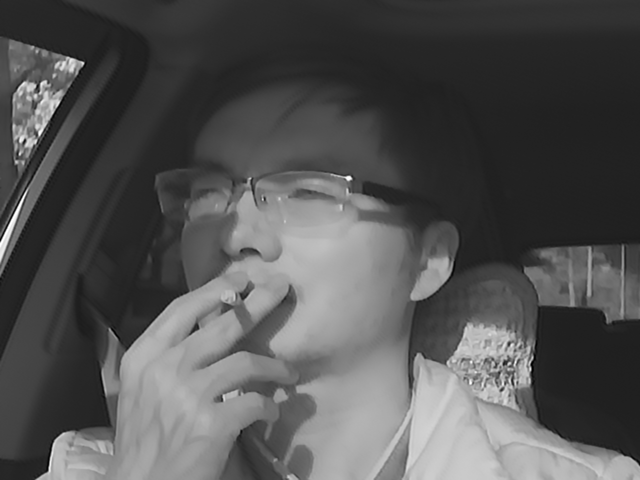hand: (114, 268, 295, 432)
